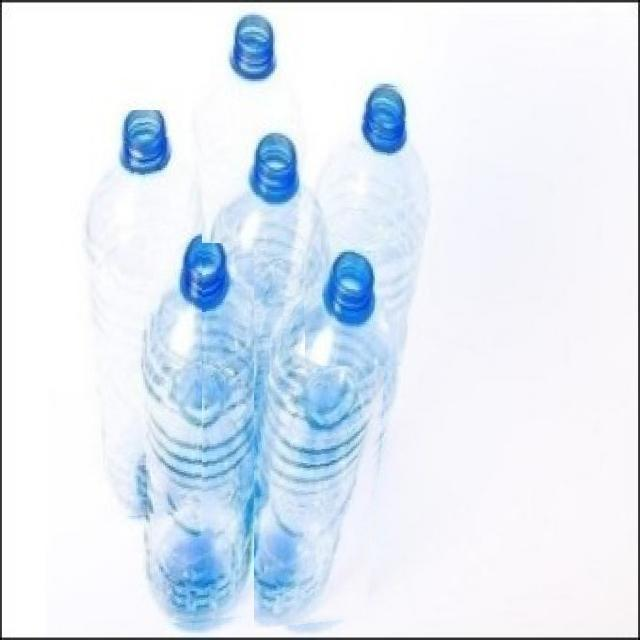plastic bottle: (254, 248, 395, 632), (133, 243, 270, 628), (82, 110, 202, 520), (302, 84, 426, 366)
